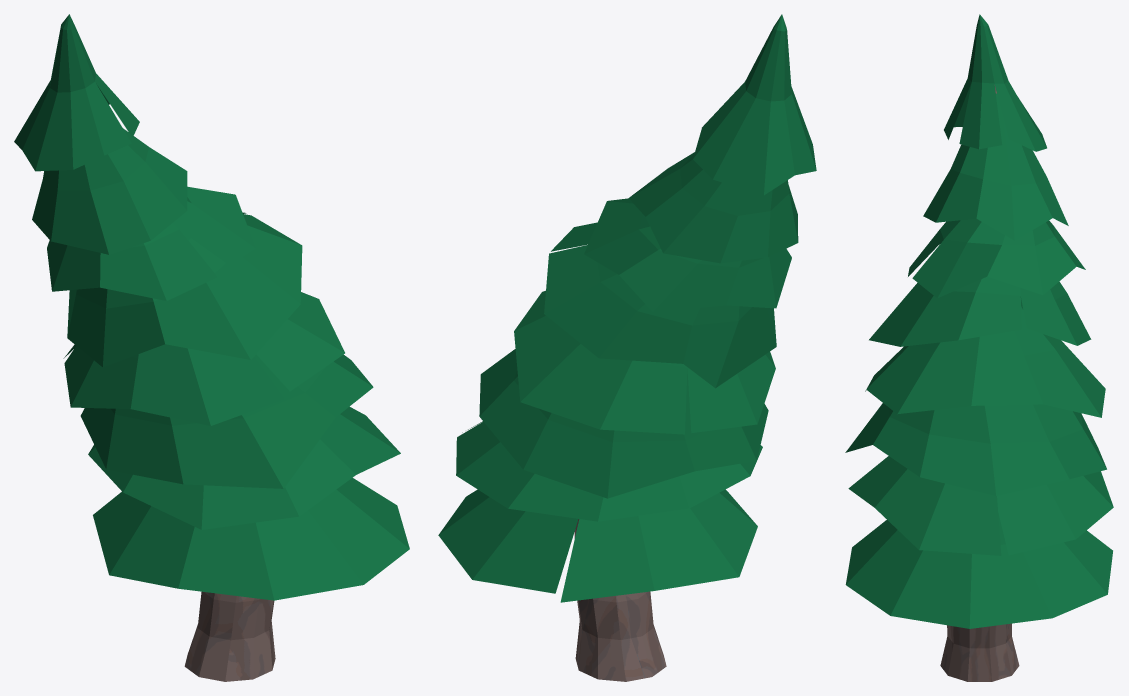
The model's file is pine_tree.glb.
The picture shows the model from 3 angles, left to right: view 1: azimuth 30°, elevation 25°; view 2: azimuth 150°, elevation 25°; view 3: azimuth 270°, elevation 25°; orthographic projection. The views are drawn at different scales.
Parts seen in each view (by area): view 1: Circle.001, Circle.002; view 2: Circle.001, Circle.002; view 3: Circle.001, Circle.002.
Part boxes in pixels (x1,y1,x2,y2): Circle.001: [14, 14, 409, 600]; Circle.002: [184, 591, 275, 681]; Circle.001: [438, 14, 816, 602]; Circle.002: [575, 591, 666, 681]; Circle.001: [845, 14, 1113, 628]; Circle.002: [940, 623, 1019, 681].
Size of the model in its own units: 3.77 by 6.95 by 2.9.
Materials: 2 (1 with a texture image).
